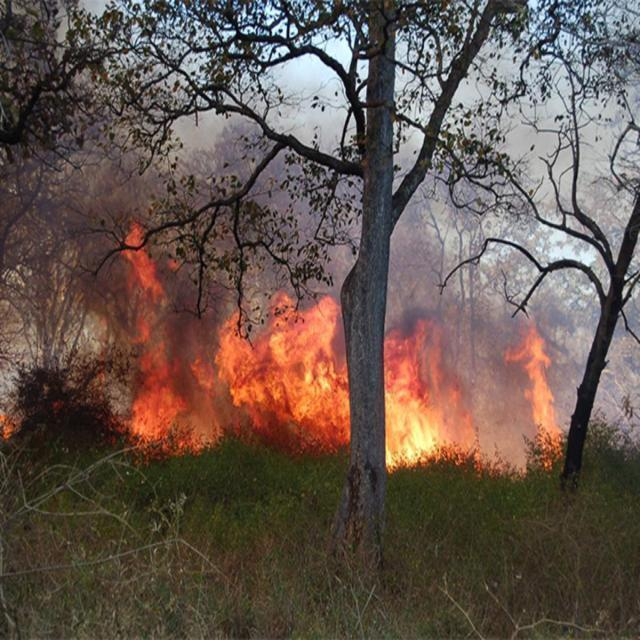Fire: (118, 256, 347, 463), (382, 322, 564, 475), (216, 294, 350, 457), (387, 322, 479, 472), (507, 327, 564, 465), (0, 387, 67, 458)
Smoke: (214, 116, 351, 230), (531, 190, 640, 329), (377, 197, 497, 316), (54, 192, 118, 291), (601, 330, 640, 445)
